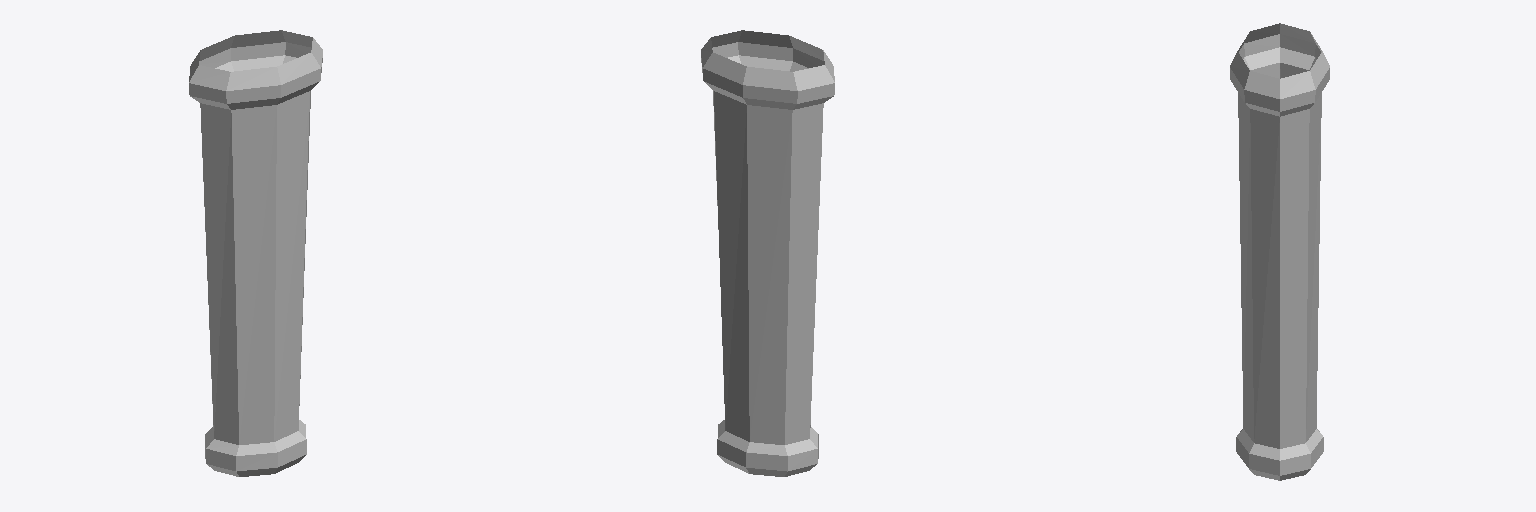
The model's file is cav-sidesword-grip.obj.
The picture shows the model from 3 angles: view 1: azimuth 30°, elevation 25°; view 2: azimuth 150°, elevation 25°; view 3: azimuth 270°, elevation 25°; orthographic projection.
Size of the model in its own units: 1.68 by 4.9 by 1.09.